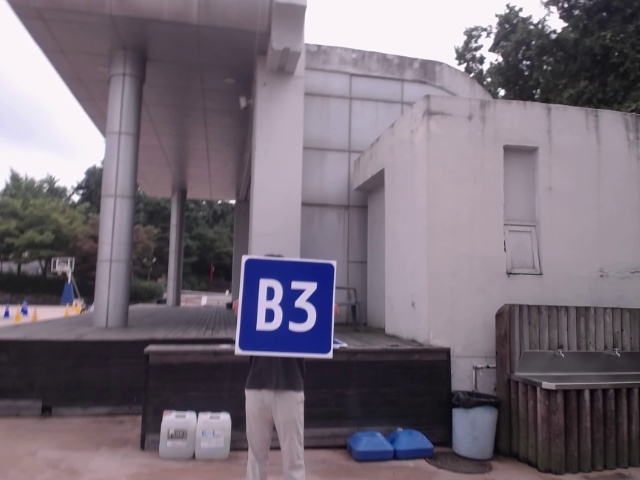delivery_b3: (237, 258, 336, 358)
